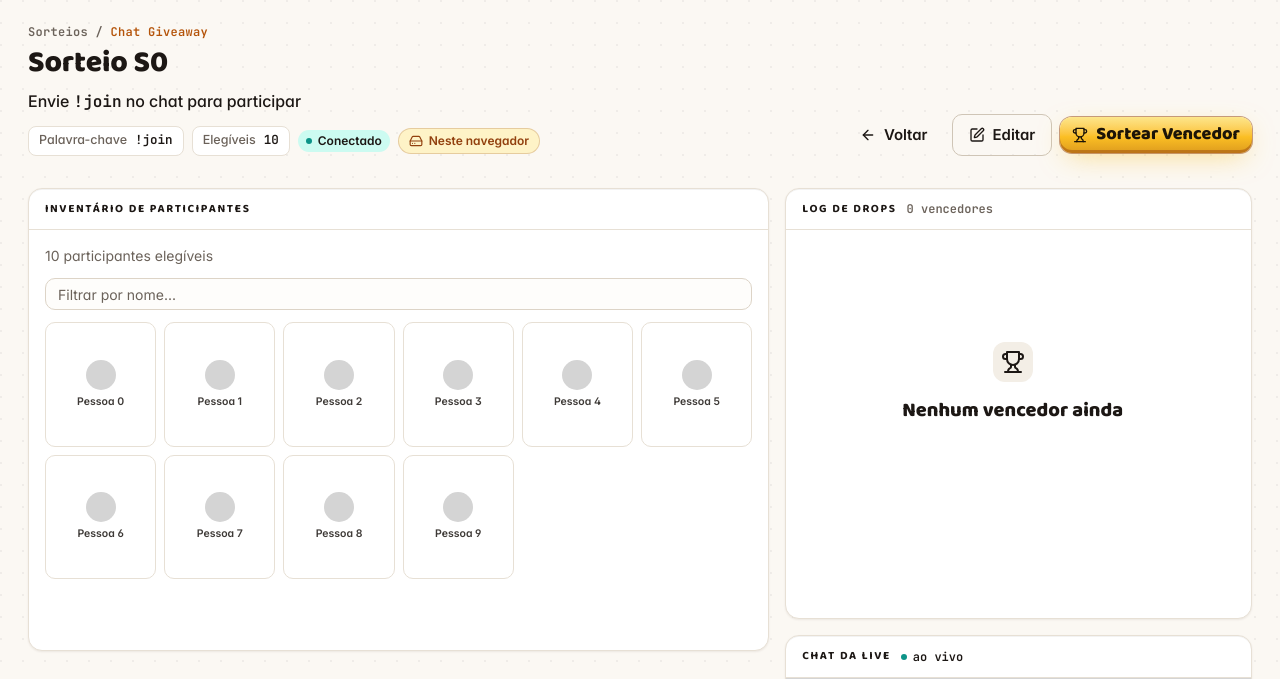
Test case: página do Chat Giveaway › CA-C4: filtro sem resultado deixa a lista vazia e o sorteio habilitado
Check: the text "10 participantes elegíveis" is shown, box [45,247,213,264]
Step 1. Type "zzzz" into the field labelled "Filtrar por nome..." → (399, 294), box [45,278,752,310]
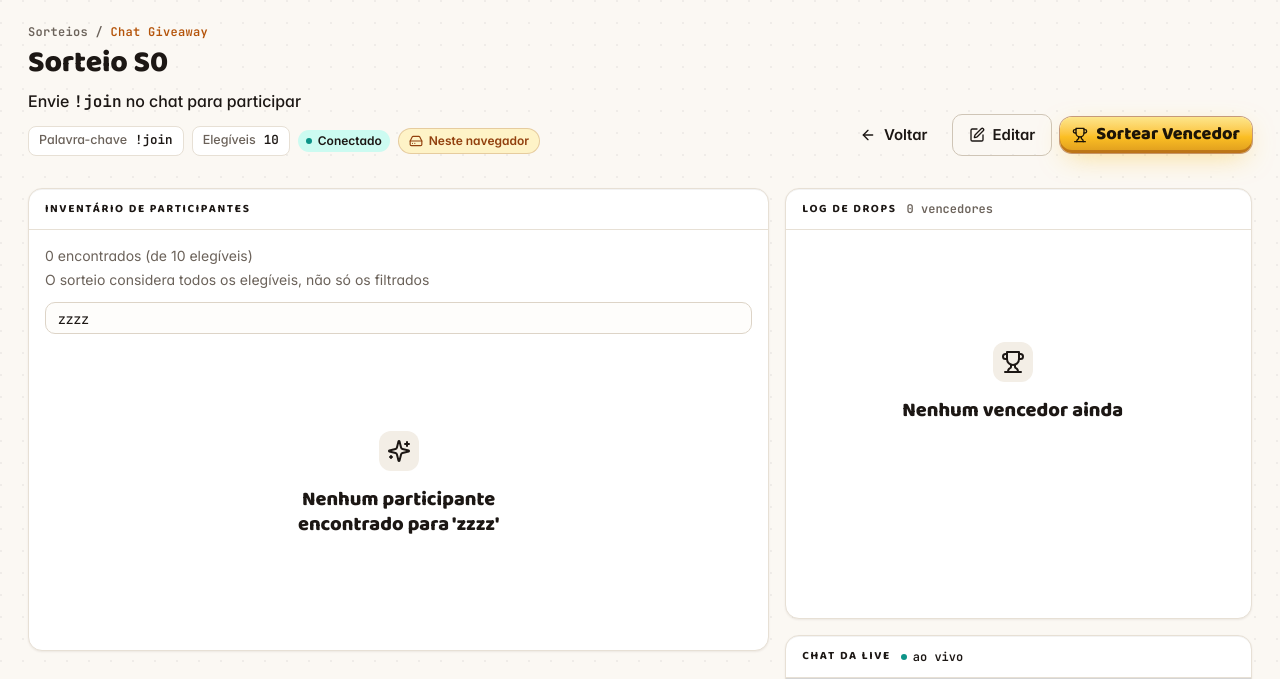
Check: the button "Sortear Vencedor" is enabled, box [1060,116,1252,152]
Check: the text "Nenhum participante encontrado para 'zzzz'" is shown, box [298,483,499,540]
